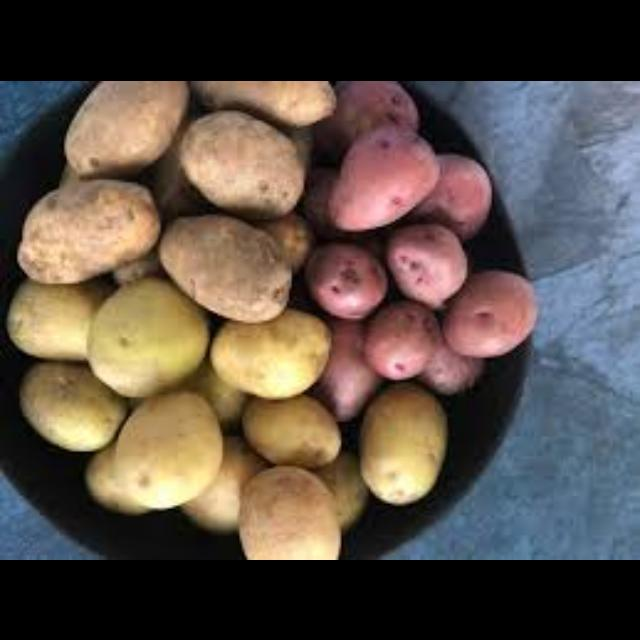Damaged potato: (148, 210, 310, 326), (20, 180, 160, 288), (175, 108, 312, 218), (60, 82, 186, 172)
Defected potato: (431, 261, 547, 367), (330, 120, 434, 238), (404, 137, 506, 250), (308, 314, 394, 418), (382, 213, 470, 307), (311, 232, 397, 324), (350, 299, 440, 381), (330, 80, 424, 152)
Potato: (110, 374, 224, 514), (80, 284, 206, 396), (21, 344, 128, 462), (358, 377, 452, 503), (224, 386, 352, 476), (234, 461, 344, 559), (212, 312, 342, 388), (7, 274, 108, 362)
